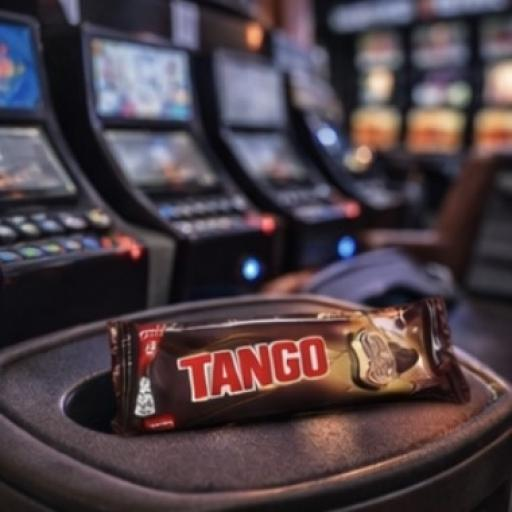tango: (82, 262, 484, 454)
